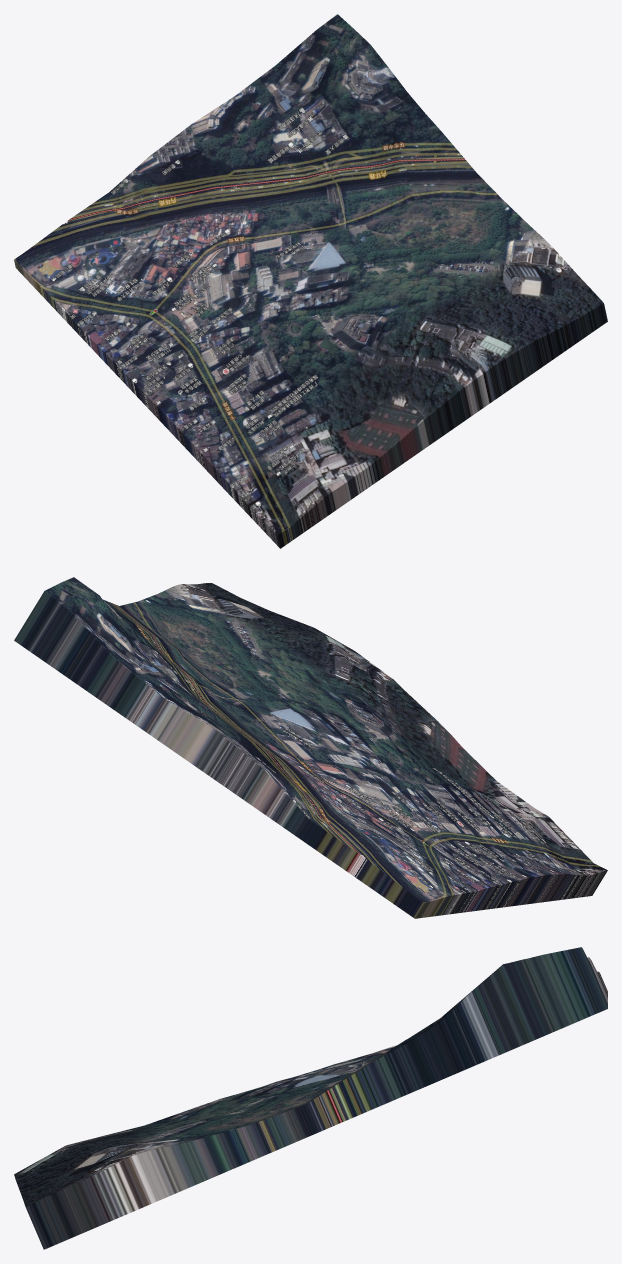
3 views of the same model, one above another, from view 1: azimuth 30°, elevation 25°; view 2: azimuth 150°, elevation 25°; view 3: azimuth 270°, elevation 25° (orthographic). The views are drawn at different scales.
Visible parts, largest first — view 1: 0_6_12; view 2: 0_6_12; view 3: 0_6_12.
Boxes of the visible parts, box(x1,y1,x2,y2) form: 0_6_12: box(14, 14, 607, 548); 0_6_12: box(14, 577, 607, 918); 0_6_12: box(14, 947, 607, 1249).
Size of the model in its own units: 600 by 483 by 571.
Materials: 1 (1 with a texture image).
